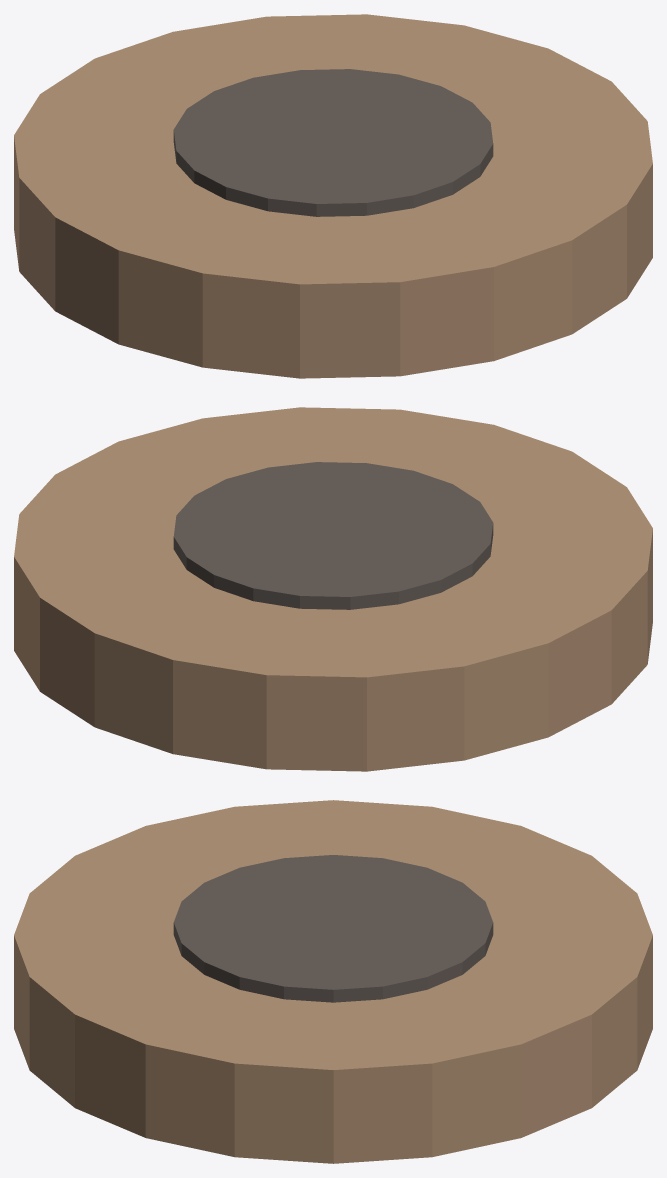
Rendered from loot_copper_wire.glb.
3 renders of one model, top to bottom at view 1: azimuth 30°, elevation 25°; view 2: azimuth 150°, elevation 25°; view 3: azimuth 270°, elevation 25°, orthographic.
Visible parts, largest first — view 1: coil_outer_0, coil_inner_1; view 2: coil_outer_0, coil_inner_1; view 3: coil_outer_0, coil_inner_1.
Part boxes in pixels (x1=…): coil_outer_0: x1=14, y1=14, x2=652, y2=378; coil_inner_1: x1=173, y1=69, x2=493, y2=216; coil_outer_0: x1=14, y1=407, x2=652, y2=771; coil_inner_1: x1=173, y1=462, x2=493, y2=609; coil_outer_0: x1=14, y1=800, x2=652, y2=1163; coil_inner_1: x1=173, y1=855, x2=493, y2=1002.
Bounding box in the file's own units: 0.68 × 0.14 × 0.68.
